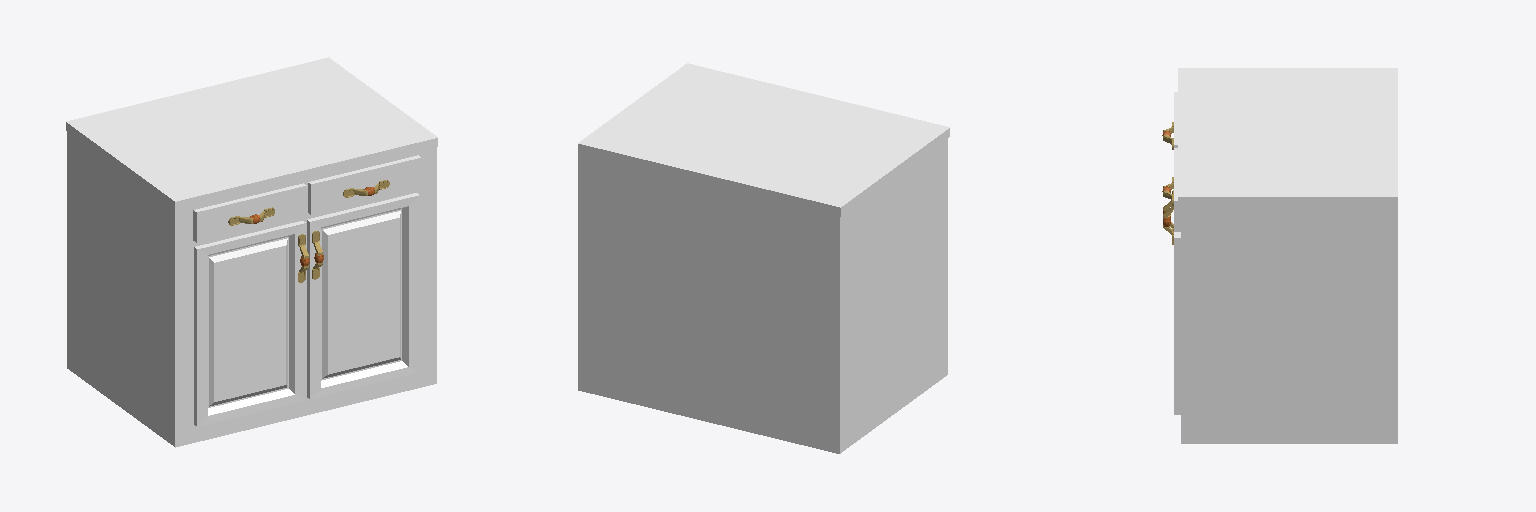
3 renders of one model, left to right at view 1: azimuth 30°, elevation 25°; view 2: azimuth 150°, elevation 25°; view 3: azimuth 270°, elevation 25°, orthographic.
Parts seen in each view (by area): view 1: PolyMesh_4, PolyMesh_6, PolyMesh_1_3, PolyMesh_1, Cube_3_2, Cube_3_3; view 2: PolyMesh_4, PolyMesh_6; view 3: PolyMesh_4, PolyMesh_6, PolyMesh_1_3.
Part boxes in pixels (x1,y1,x2,y2): PolyMesh_4: (67,132,436,447); PolyMesh_6: (66,57,437,210); PolyMesh_1_3: (307,193,419,398); PolyMesh_1: (194,221,305,426); Cube_3_2: (193,183,306,242); Cube_3_3: (308,155,420,214); PolyMesh_4: (578,139,947,453); PolyMesh_6: (578,63,949,216); PolyMesh_4: (1181,206,1397,443); PolyMesh_6: (1178,68,1397,205); PolyMesh_1_3: (1174,232,1180,414).
Size of the model in its own units: 7.29 by 6.54 by 5.64.
Materials: 4 (1 with a texture image).